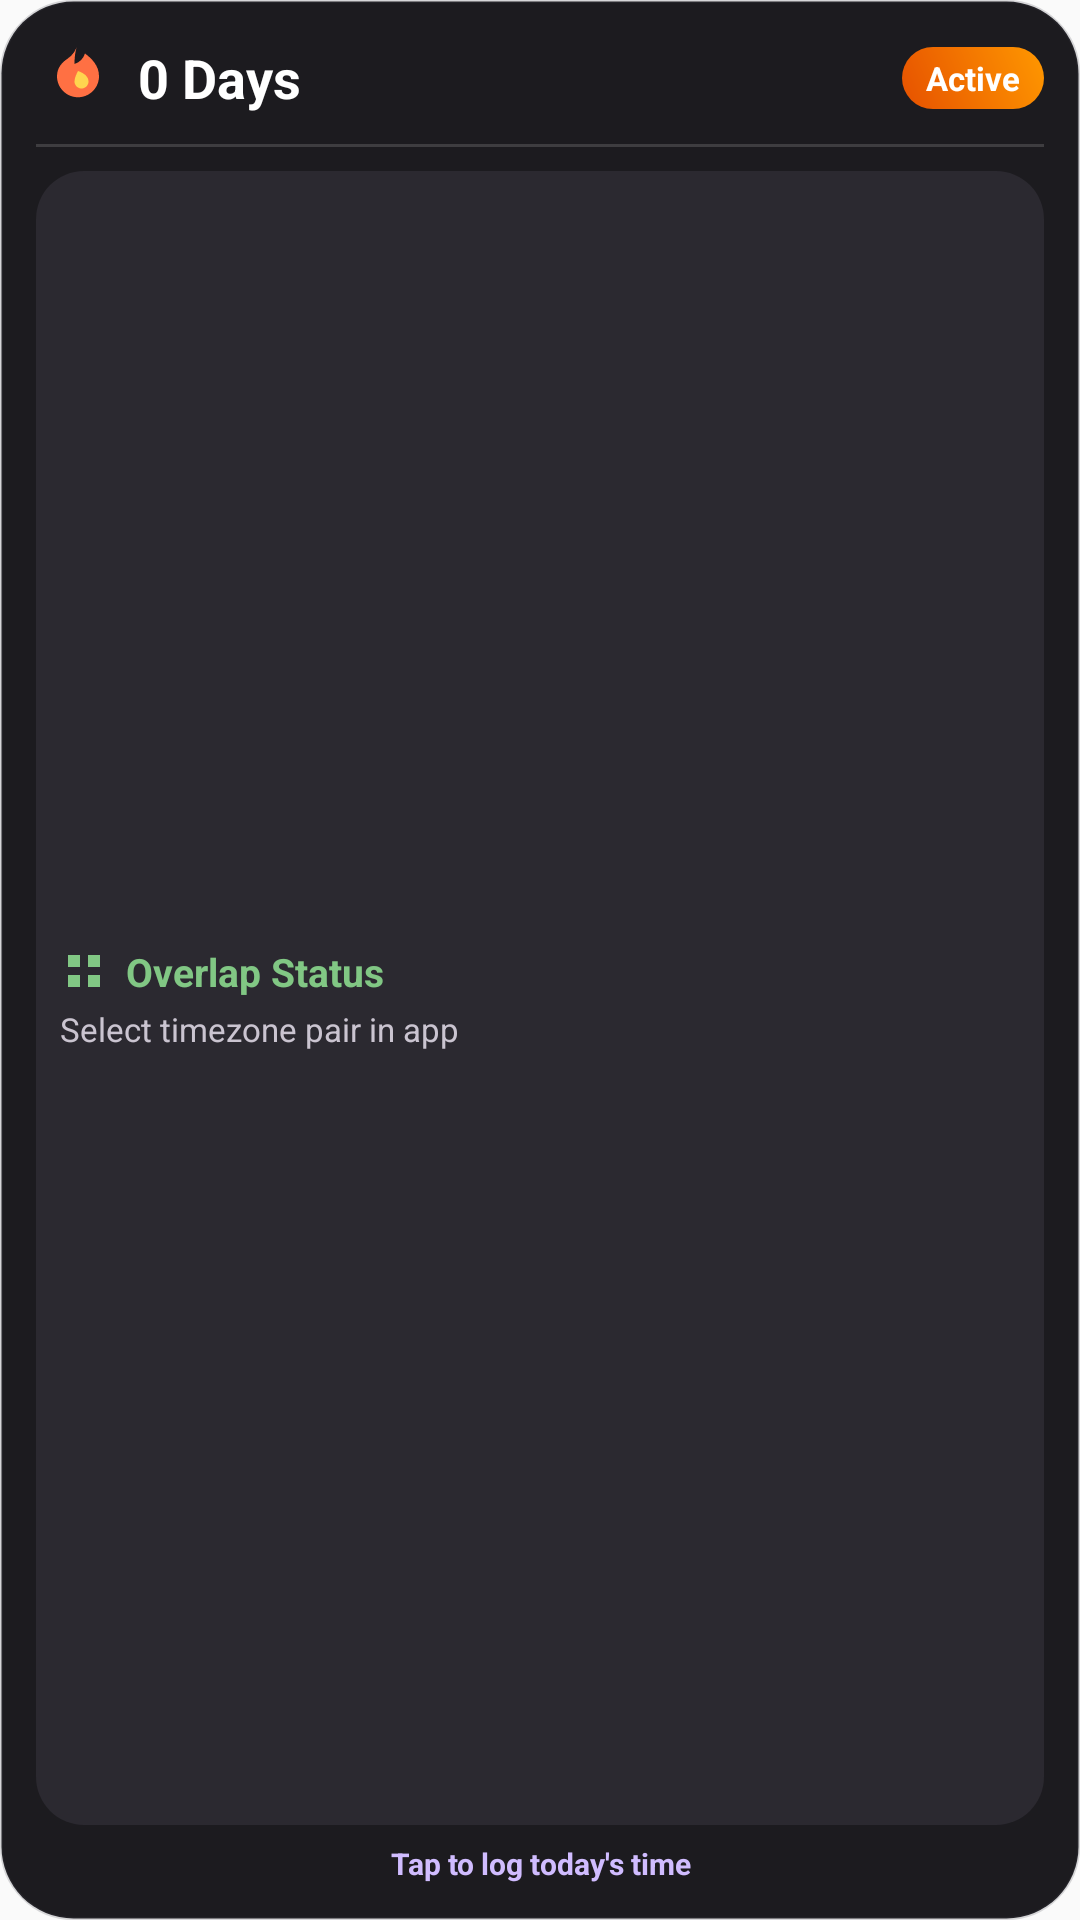

Named icons in this screenshot (1080 × 1920) and their centers, (x,y):
Streak Flame: (78,73)
